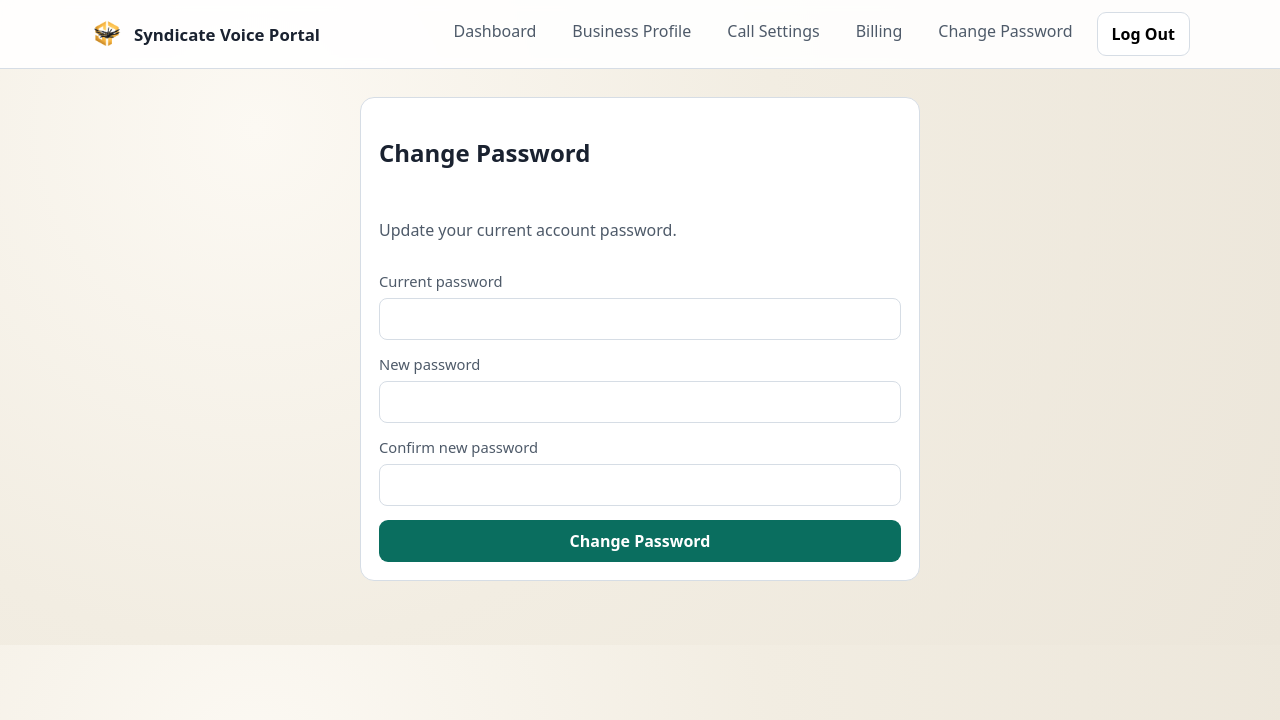
Test: ChangePasswordPage › shows success after password change
The width and height of the screenshot is (1280, 720).
Type "old-pass" into the password field labelled "Current password" at (640, 319), box [379,298,901,340]
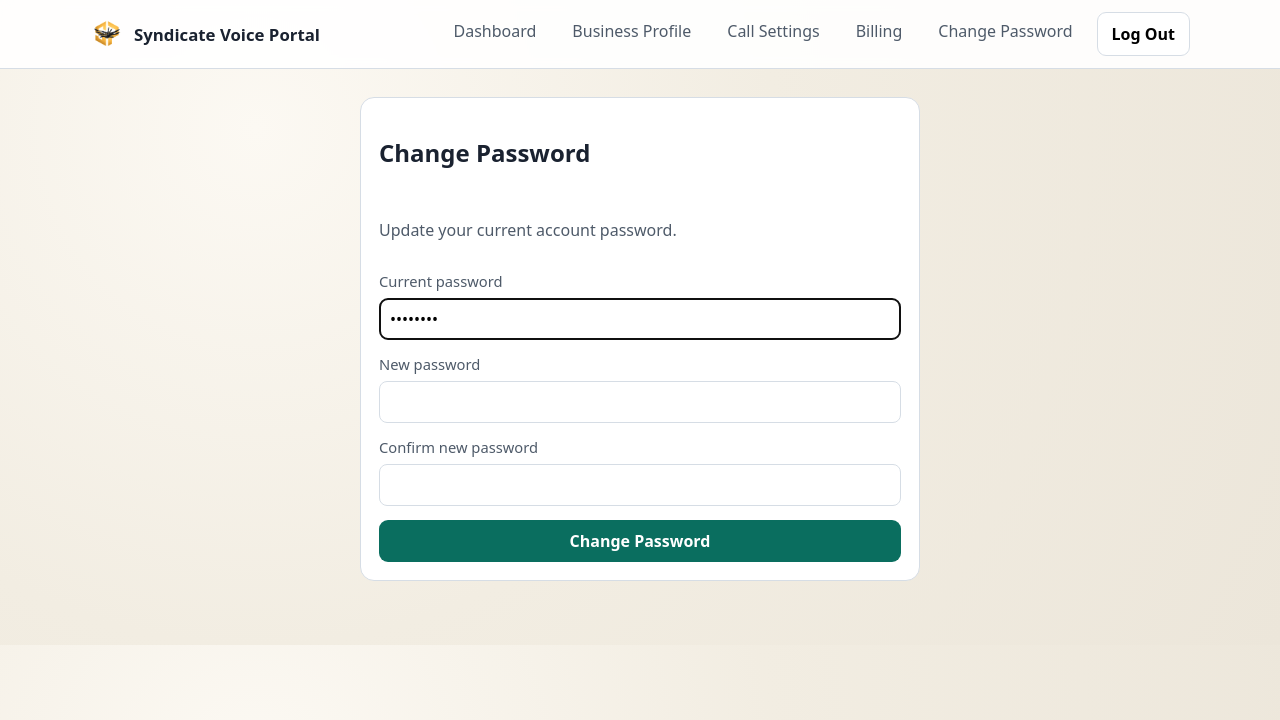
Type "new-password-123" into the password field labelled "New password" at (640, 402), box [379,381,901,423]
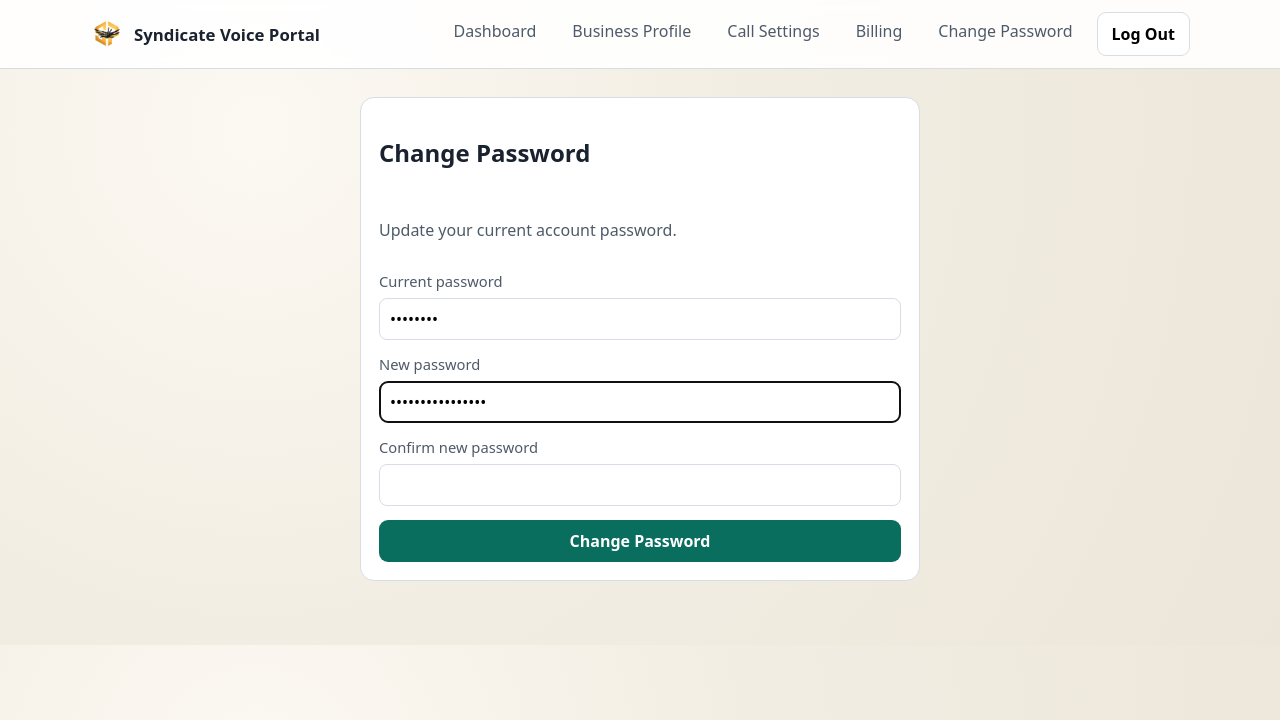
Type "new-password-123" into the password field labelled "Confirm new password" at (640, 485), box [379,464,901,506]
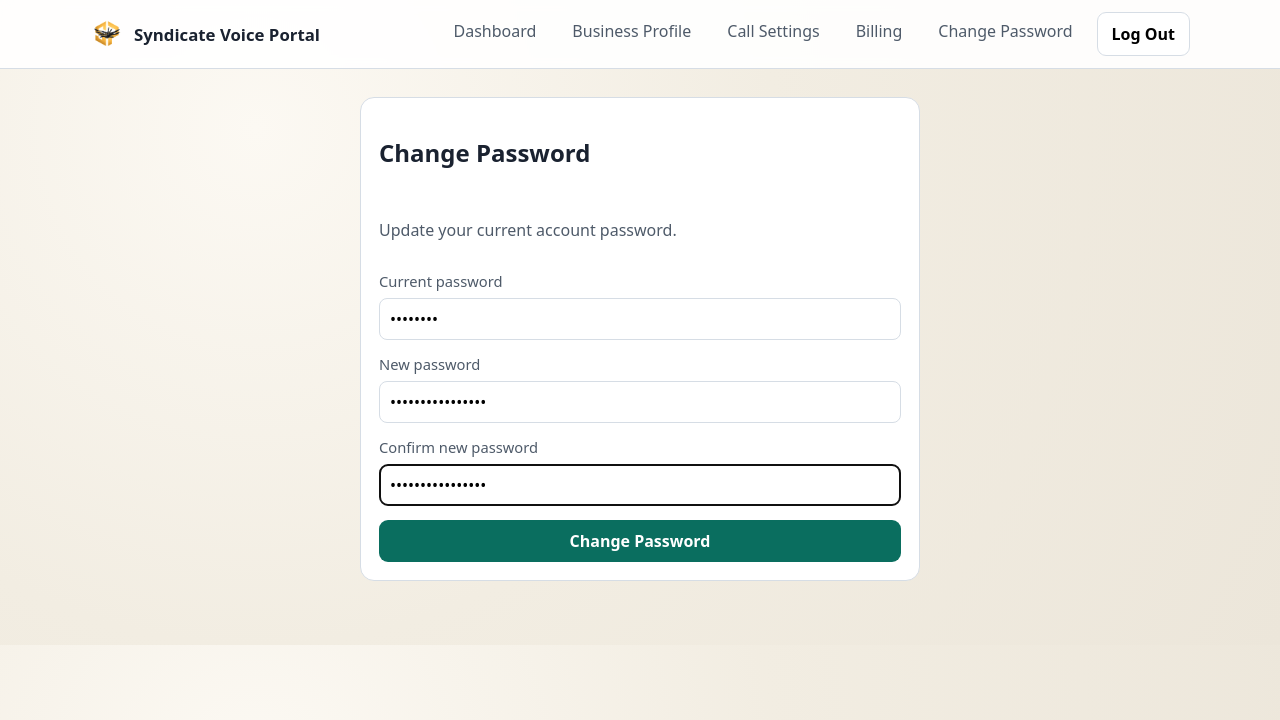
Click the button "Change Password" at (640, 541), box [379,520,901,562]
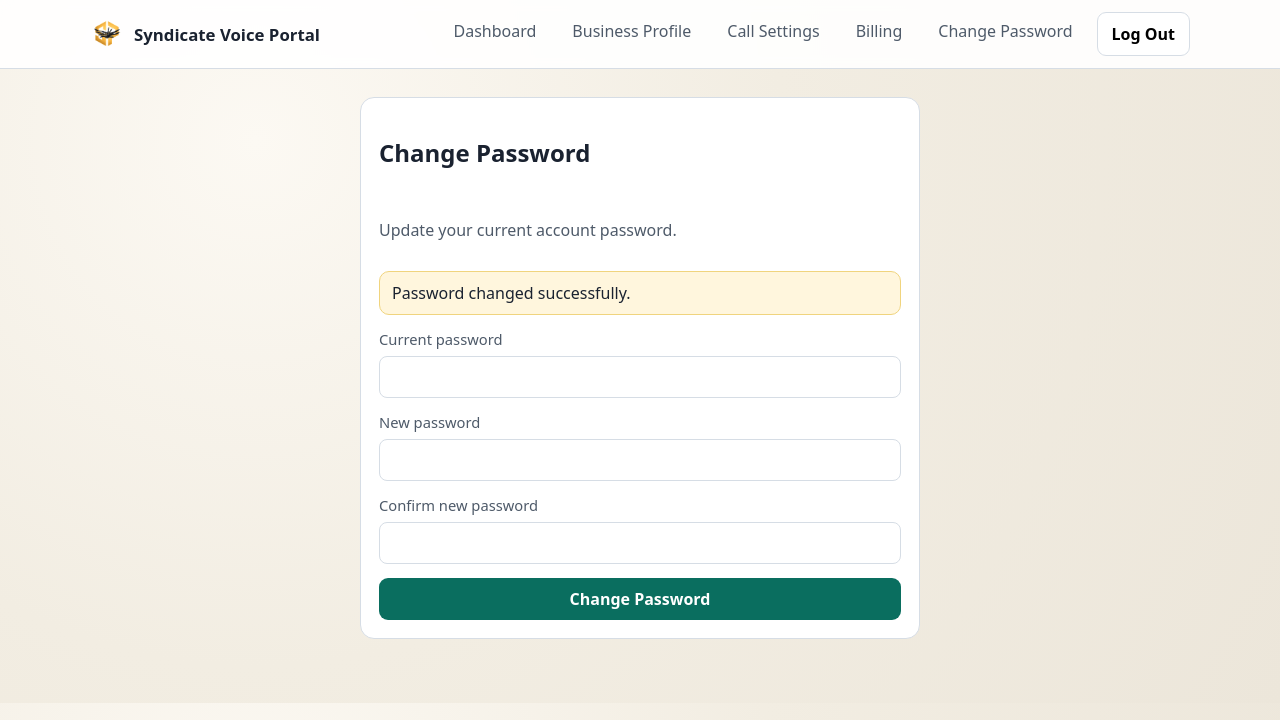
Check: the text "Password changed successfully." is shown, box [379,271,901,315]
